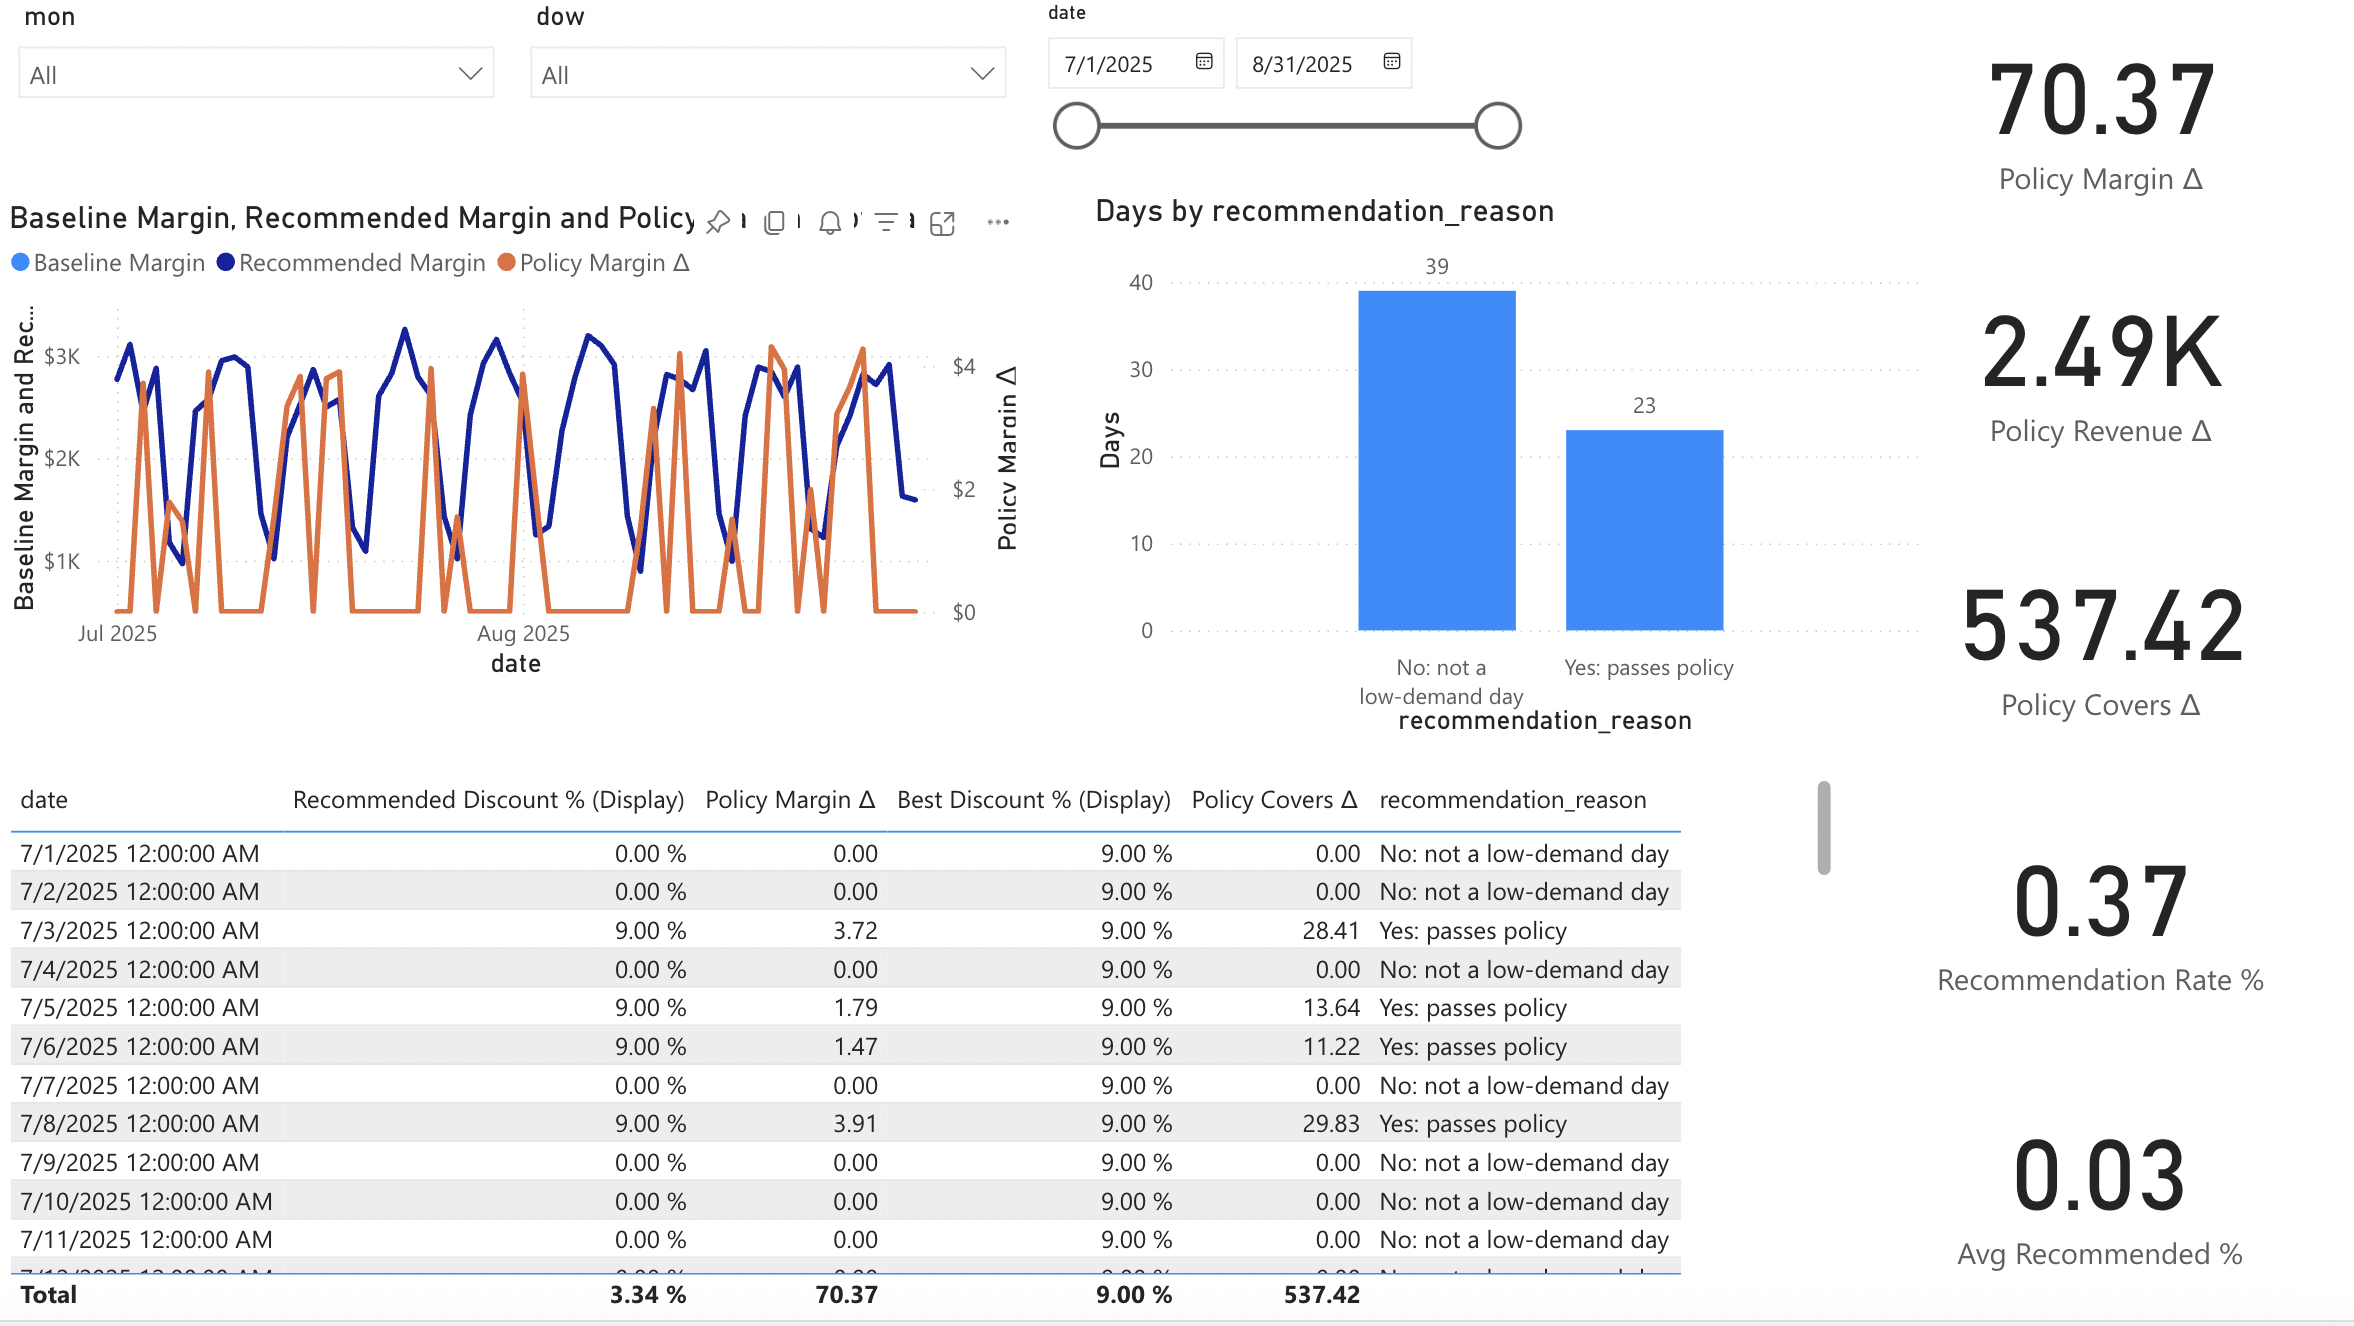

Layout of this report page (visuals, bound fields, positions):
{"tool":"powerbi","page":{"name":"Overview","canvas":[1280,720],"ordinal":0},"visuals":[{"type":"card","fields":{"Values":["gold_dim_date.Policy Margin Δ"]},"box":[1000.8,0,279.2,122],"z":0},{"type":"card","fields":{"Values":["gold_dim_date.Policy Covers Δ"]},"box":[1000.8,285.3,279.2,122],"z":1000},{"type":"card","fields":{"Values":["gold_dim_date.Policy Revenue Δ"]},"box":[1000.8,137.3,279.2,122],"z":2000},{"type":"card","fields":{"Values":["gold_dim_date.Avg Recommended %"]},"box":[1001.7,570.4,278.3,149.6],"z":3000},{"type":"slicer","fields":{"Values":["gold_dim_date.mon"]},"box":[0,0,278.3,81.7],"z":4000},{"type":"slicer","fields":{"Values":["gold_dim_date.dow"]},"box":[278.3,0,278.3,76.5],"z":5000},{"type":"slicer","fields":{"Values":["gold_dim_date.date"]},"box":[556.5,0,278.3,109.6],"z":6000},{"type":"lineChart","fields":{"Category":["gold_dim_date.date"],"Y":["gold_dim_date.Baseline Margin","gold_dim_date.Recommended Margin"],"Y2":["gold_dim_date.Policy Margin Δ"]},"box":[0,109.6,556.5,266.1],"z":7000},{"type":"card","fields":{"Values":["gold_dim_date.Recommendation Rate %"]},"box":[1024.3,420.9,233,149.6],"z":8000},{"type":"clusteredColumnChart","fields":{"Category":["gold_export_daily.recommendation_reason"],"Y":["gold_dim_date.Days"]},"box":[589.6,109.6,457.4,297.4],"z":9000},{"type":"tableEx","fields":{"Values":["gold_export_daily.date","gold_dim_date.Recommended Discount % (Display)","gold_dim_date.Policy Margin Δ","gold_dim_date.Best Discount % (Display)","gold_dim_date.Policy Covers Δ","gold_export_daily.recommendation_reason"]},"box":[0,420.9,1000,299.1],"z":10000}]}

Visuals, with their boxes in screenshot pixels (x1, y1, x2, y2), scaled from the page's 1280x720 canvas onto the 2354x1326 screenshot:
card - gold_dim_date.Policy Margin Δ: (1841, 0, 2353, 225)
card - gold_dim_date.Policy Covers Δ: (1841, 525, 2353, 750)
card - gold_dim_date.Policy Revenue Δ: (1841, 253, 2353, 478)
card - gold_dim_date.Avg Recommended %: (1842, 1050, 2353, 1325)
slicer - gold_dim_date.mon: (0, 0, 512, 150)
slicer - gold_dim_date.dow: (512, 0, 1024, 141)
slicer - gold_dim_date.date: (1023, 0, 1535, 202)
lineChart - gold_dim_date.date x gold_dim_date.Baseline Margin: (0, 202, 1023, 692)
card - gold_dim_date.Recommendation Rate %: (1884, 775, 2312, 1051)
clusteredColumnChart - gold_export_daily.recommendation_reason x gold_dim_date.Days: (1084, 202, 1925, 750)
tableEx - gold_export_daily.date x gold_dim_date.Recommended Discount % (Display): (0, 775, 1839, 1325)
